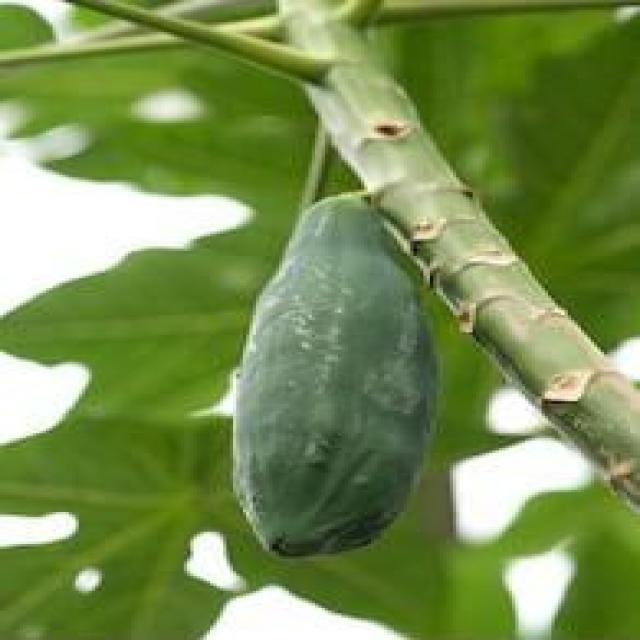Pepaya unrippen: (220, 193, 440, 571)
